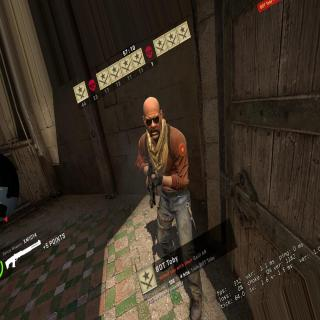T-Body: (133, 93, 207, 319)
T-Head: (142, 95, 164, 137)
